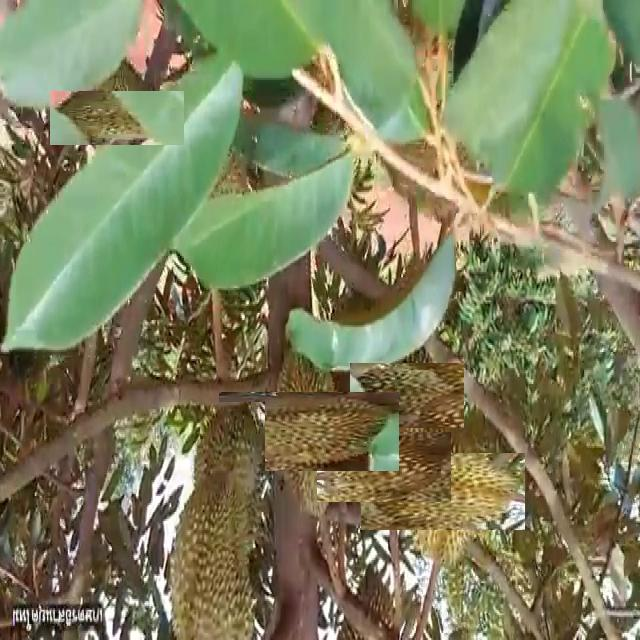durian: (244, 366, 375, 497), (163, 483, 259, 639), (382, 431, 504, 552), (333, 415, 435, 518), (69, 71, 164, 166), (188, 402, 265, 513), (362, 351, 452, 441)
